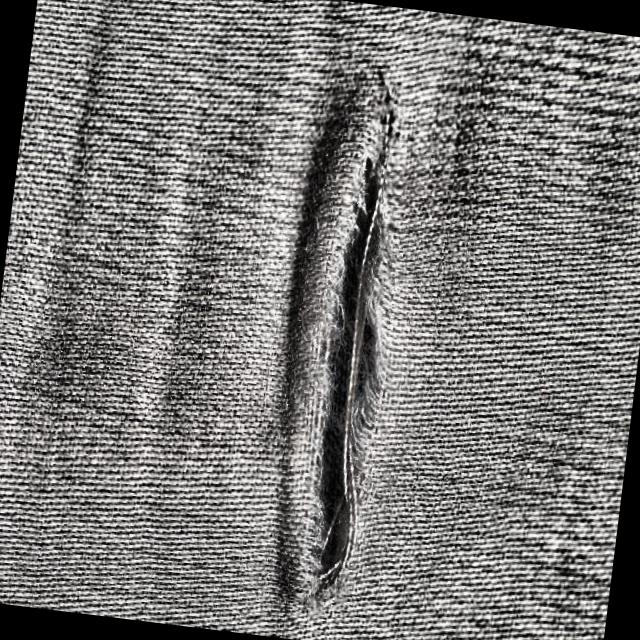cut: (283, 128, 430, 620)
